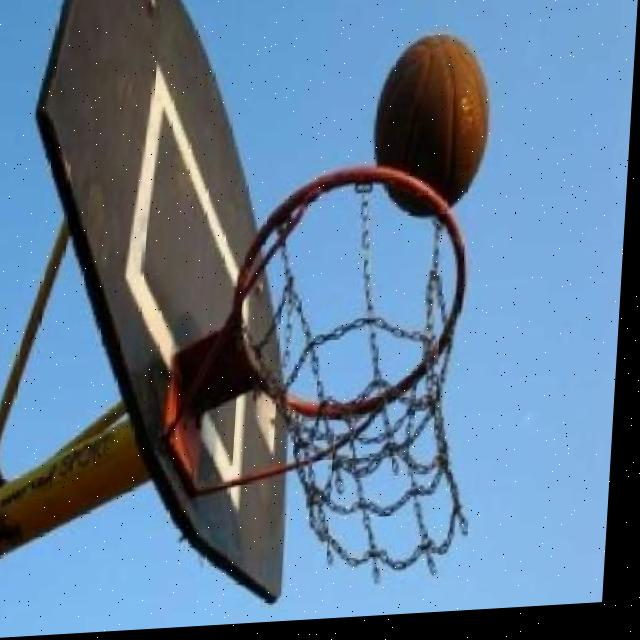basketball: (367, 26, 498, 222)
hoop: (218, 149, 498, 595)
